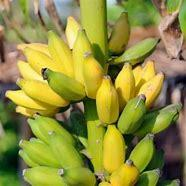banana: (6, 14, 174, 186), (43, 61, 90, 103), (44, 24, 79, 79), (9, 74, 66, 103), (95, 124, 128, 174), (44, 126, 82, 168), (79, 46, 108, 99), (116, 91, 148, 137), (90, 79, 122, 121), (24, 43, 60, 76), (113, 57, 136, 100), (57, 164, 95, 186)
